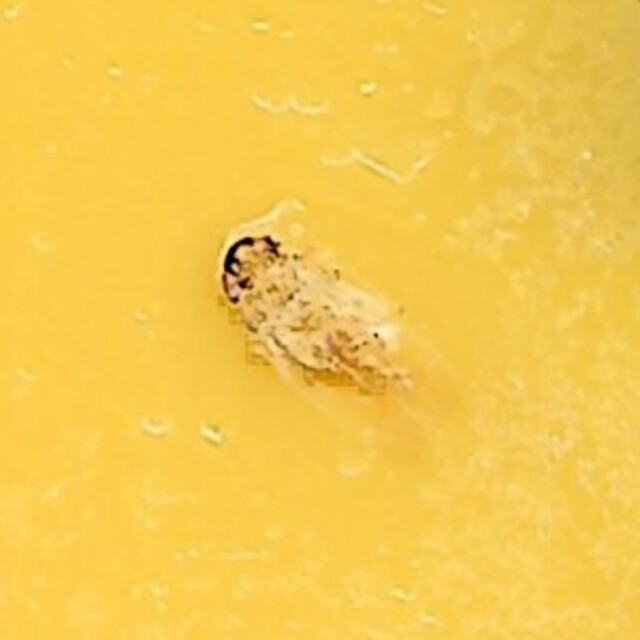Hemiptera: (213, 229, 427, 411)
